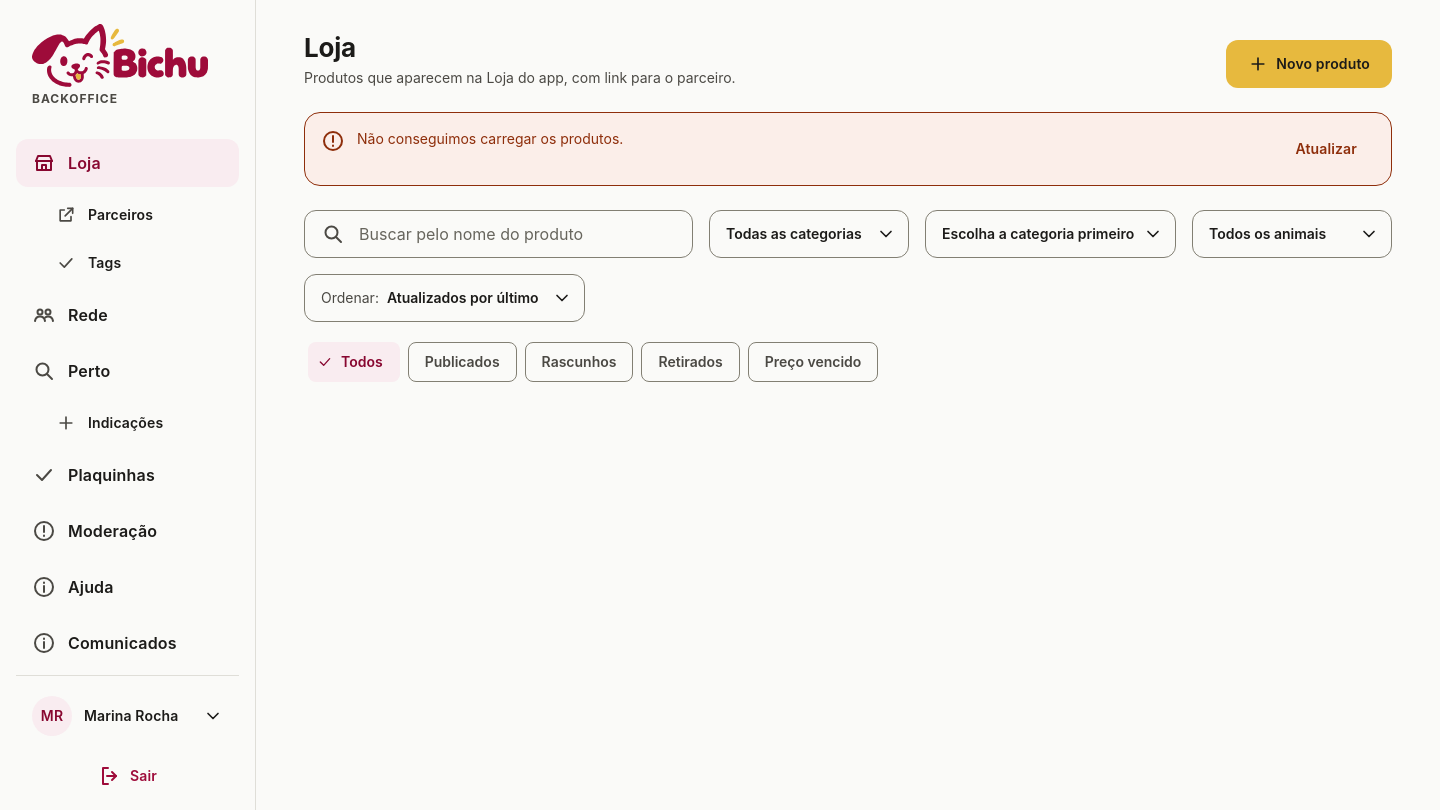
Scenario: 3 · Loja: lista › erro ao carregar: banner com Atualizar, que recarrega a lista
Expected: the text "Não conseguimos carregar os produtos." is shown, [357,130,623,147]
Click the button "Atualizar": (1326, 149) [1278,129,1375,169]
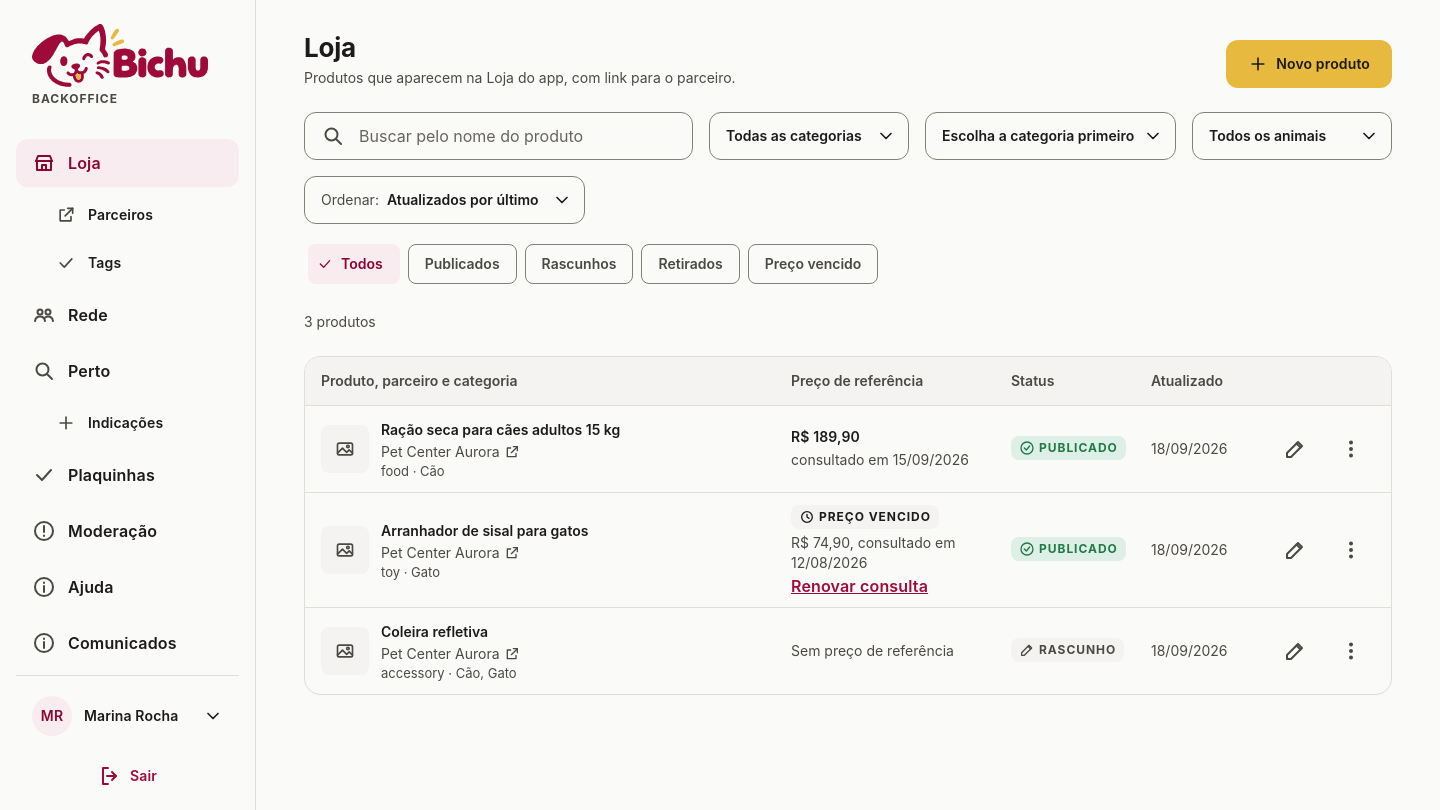
Expected: the text "3 produtos" is shown, [304,313,376,330]
